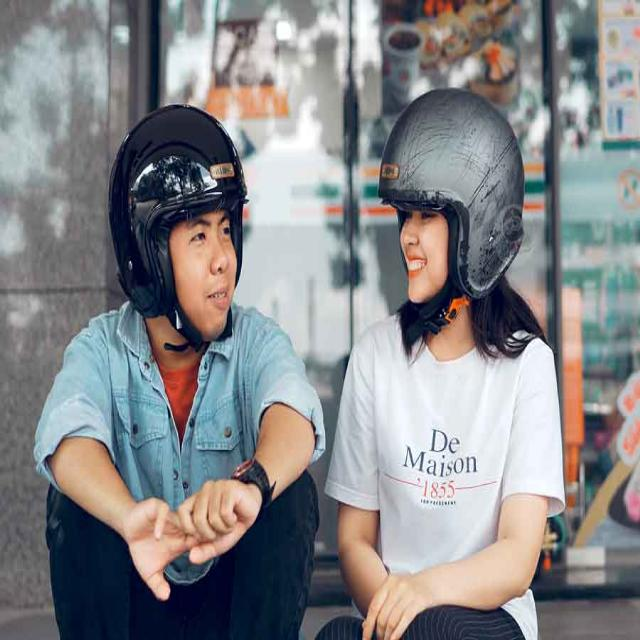helmet: (378, 87, 525, 299), (106, 104, 250, 319)
